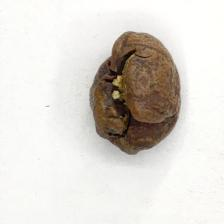NG: (96, 37, 159, 150)
